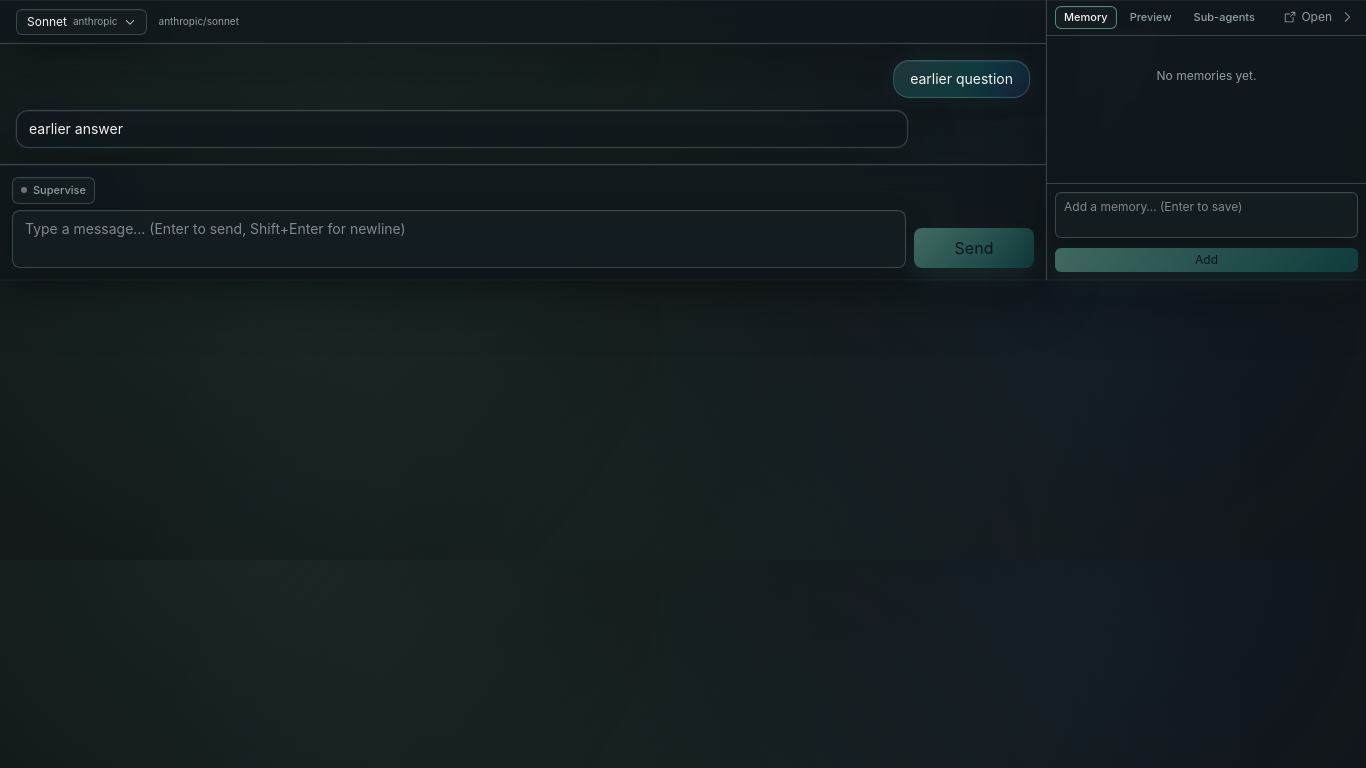
Test case: ChatPanel › keeps the just-sent prompt visible when a stream drops on a thread with prior history
Check: the text "earlier question" is shown, box [910,70,1013,87]
Type "brand new prompt" into the text box with test id "chat-input".
click(459, 238); type("brand new prompt")  # box [12,210,906,268]
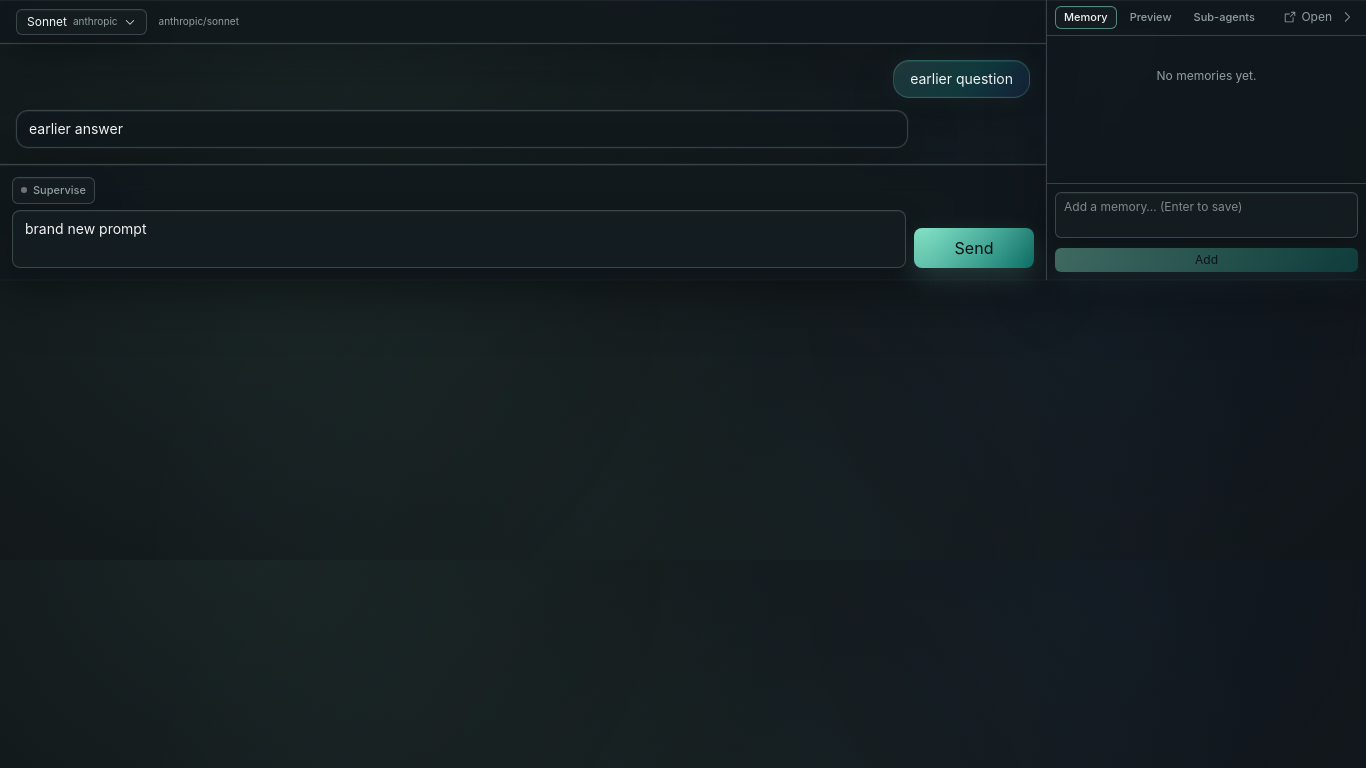
Click the button with test id "send-button".
click(974, 248)  # box [914,228,1034,268]
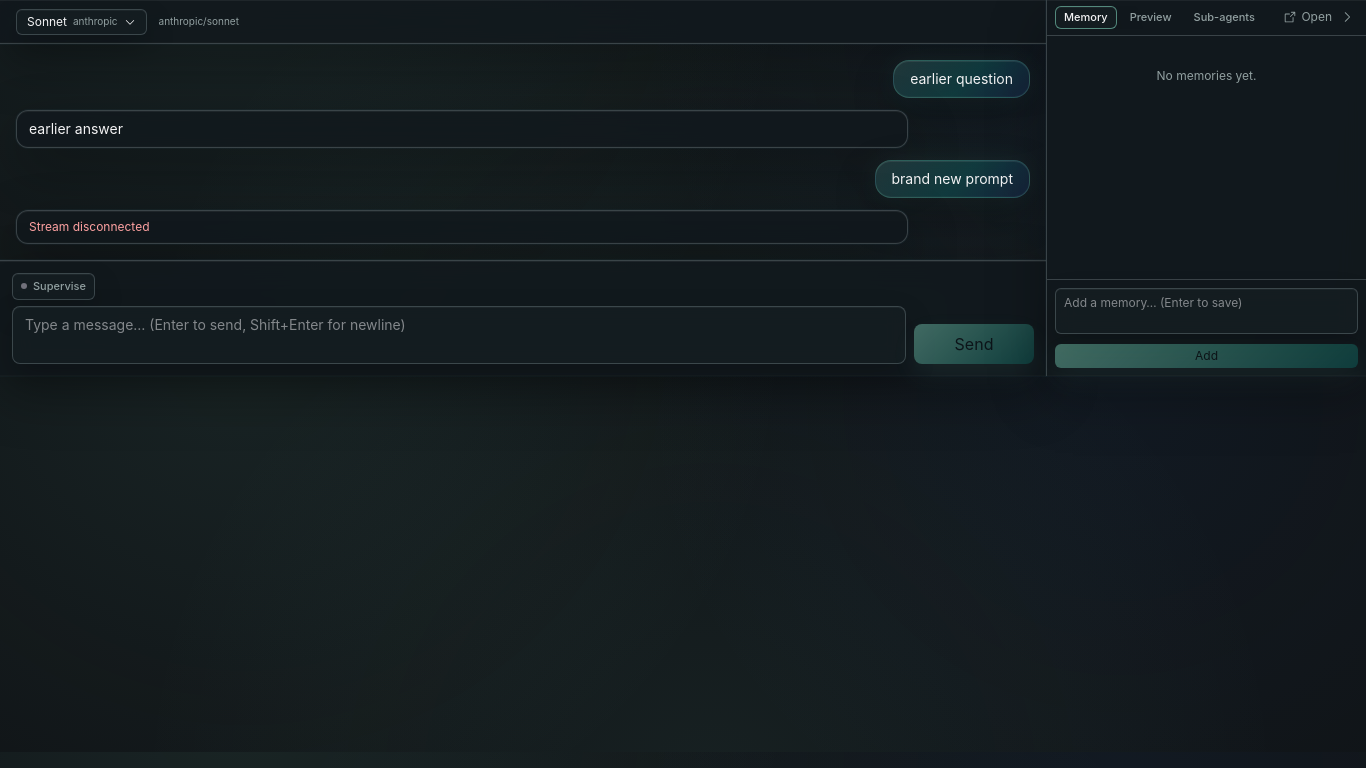
Check: the text "brand new prompt" is shown, box [892,170,1013,187]
